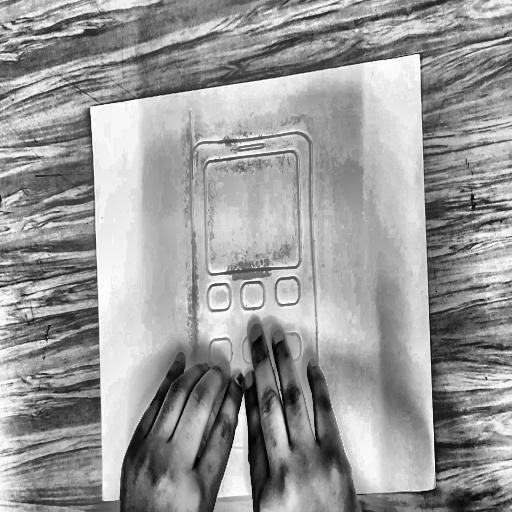bottom_left: (101, 495, 107, 506)
bottom_right: (432, 482, 439, 494)
mobile: (184, 87, 327, 466)
top_left: (88, 104, 94, 113)
top_right: (416, 51, 423, 61)
